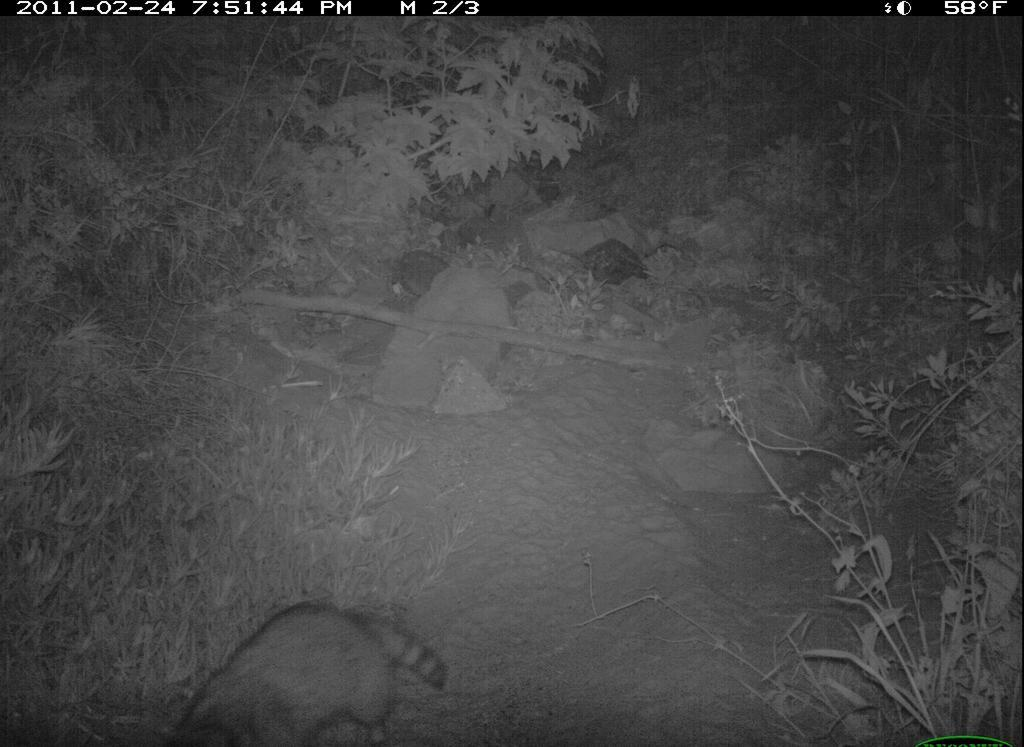raccoon: (157, 594, 468, 747)
